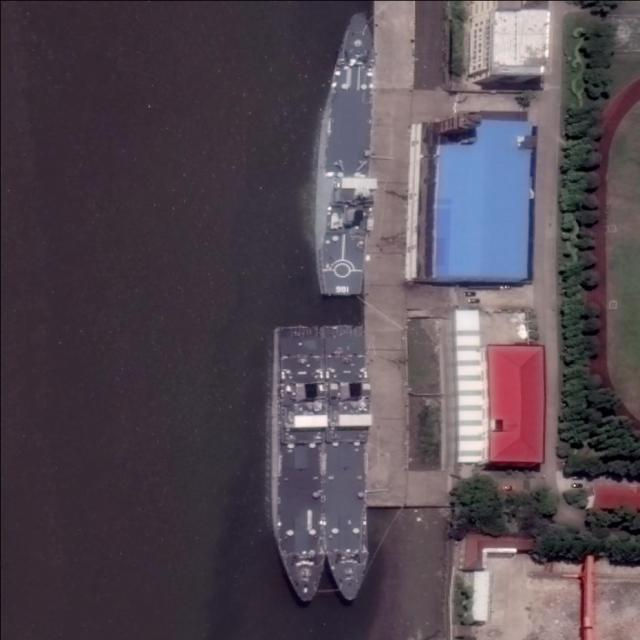Landing: (320, 10, 375, 295), (277, 326, 324, 601), (327, 321, 367, 601)
